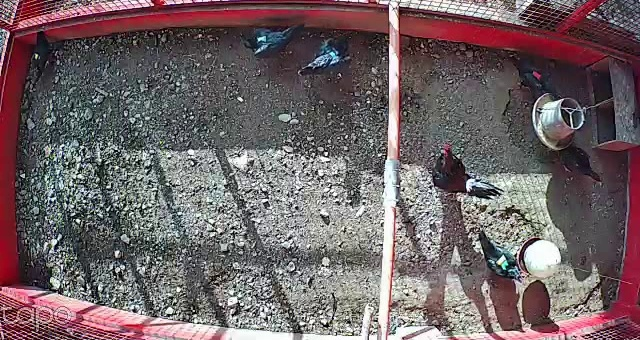Chicken: (295, 24, 363, 82), (239, 19, 307, 67), (473, 226, 525, 284), (504, 47, 560, 99), (551, 138, 611, 185), (28, 26, 56, 91)
Rooster: (420, 143, 501, 199)
Saddle_Color_Red: (532, 71, 541, 78)
Saddle_Color_Yellow: (33, 52, 40, 60)
Saddle_Color_YellowGreen: (495, 255, 512, 270)
